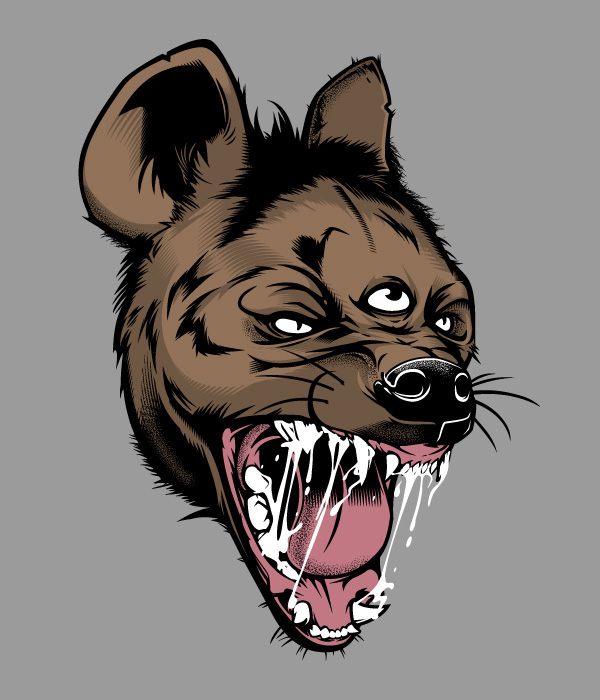dog: (68, 29, 546, 665)
